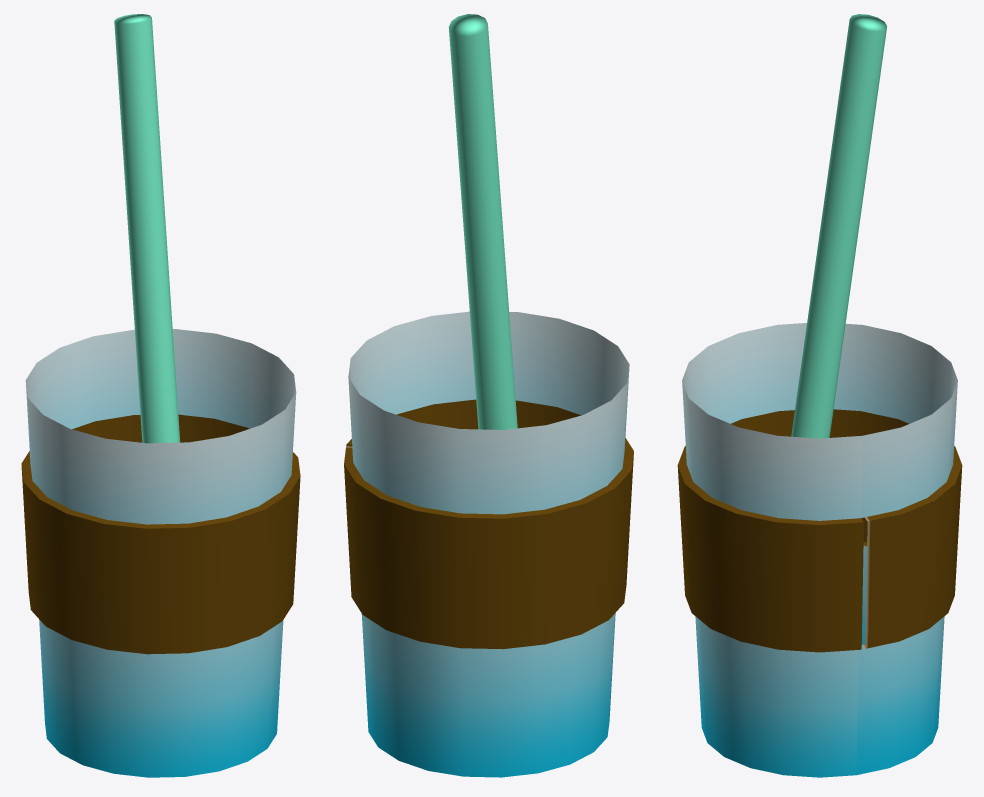
The model's file is cups3.fbx.
The picture shows the model from 3 angles, left to right: view 1: azimuth 30°, elevation 25°; view 2: azimuth 150°, elevation 25°; view 3: azimuth 270°, elevation 25°; orthographic projection. The views are drawn at different scales.
Visible parts, largest first — view 1: pCylinder7; view 2: pCylinder7; view 3: pCylinder7.
Part boxes in pixels (left/top/right/bottom): pCylinder7: left=21, top=14, right=300, bottom=777; pCylinder7: left=344, top=14, right=633, bottom=777; pCylinder7: left=677, top=14, right=962, bottom=777.
Bounding box in the file's own units: 0.000652 × 0.00172 × 0.000652.
2 materials, 2 textured.
